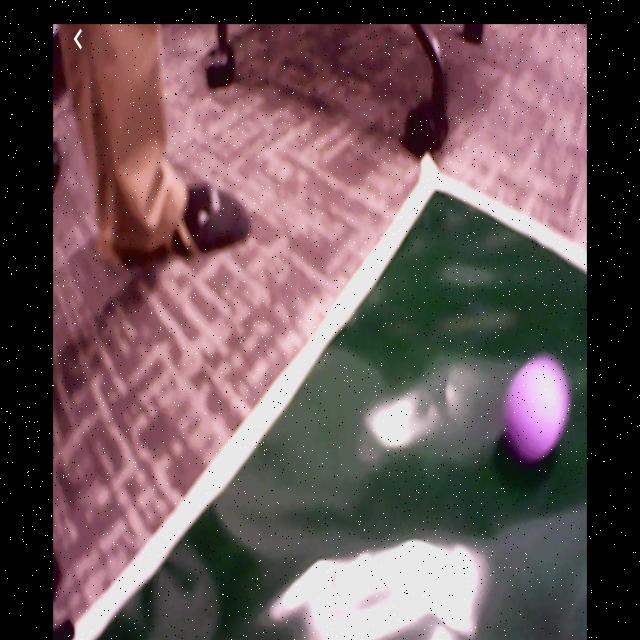ball: (504, 357, 571, 462)
